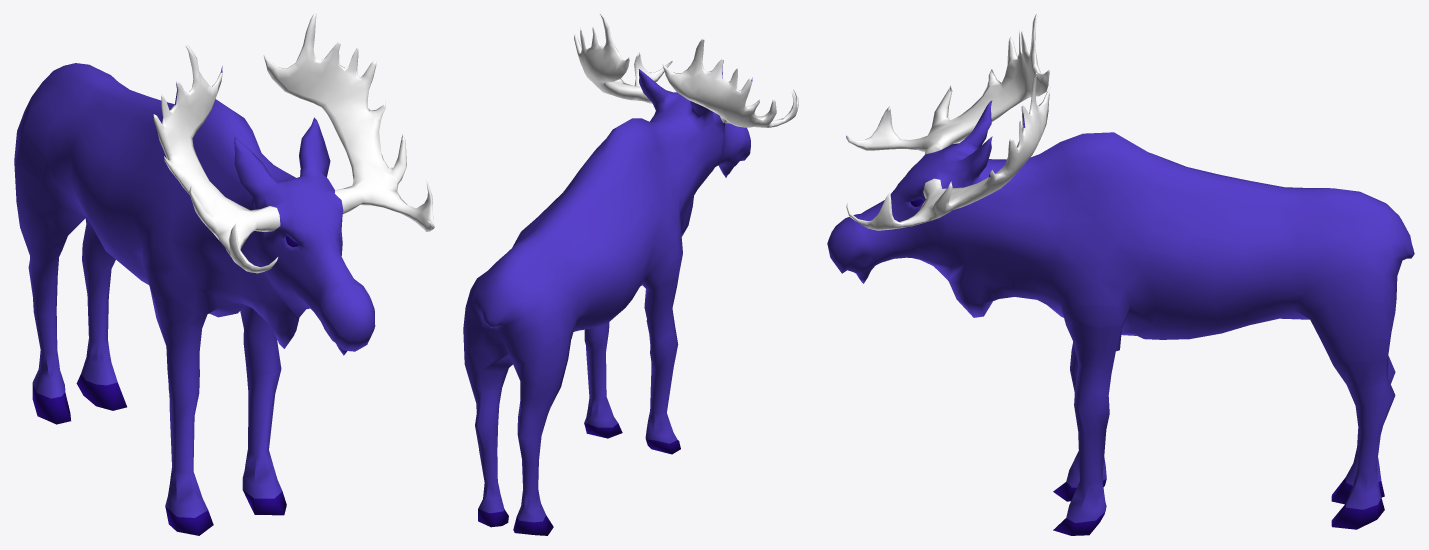
Rendered from moose.glb.
3 renders of one model, left to right at view 1: azimuth 30°, elevation 25°; view 2: azimuth 150°, elevation 25°; view 3: azimuth 270°, elevation 25°, orthographic. The views are drawn at different scales.
Parts seen in each view (by area): view 1: Moose_Low_Baked001; view 2: Moose_Low_Baked001; view 3: Moose_Low_Baked001.
Boxes of the visible parts, x1=… form: Moose_Low_Baked001: x1=14, y1=14, x2=434, y2=535; Moose_Low_Baked001: x1=463, y1=14, x2=798, y2=535; Moose_Low_Baked001: x1=827, y1=14, x2=1414, y2=535.
Size of the model in its own units: 0.537 by 1.16 by 1.32.
